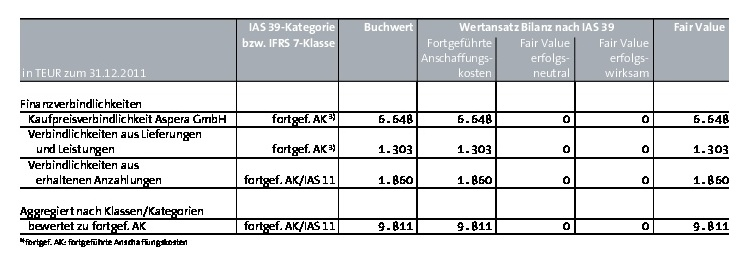table: (0, 0, 744, 257)
